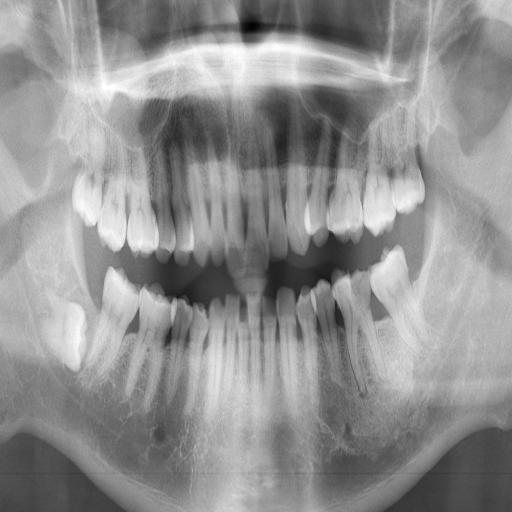Wisdom teeth: (41, 297, 86, 371), (391, 160, 424, 213), (73, 171, 102, 225)
